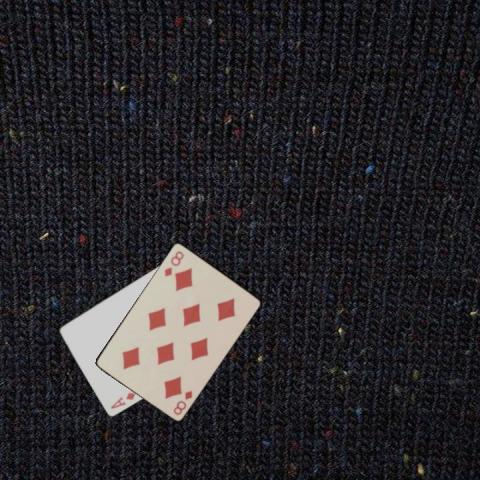8d: (162, 247, 186, 278), (170, 387, 194, 416)
Ad: (107, 389, 137, 410)
